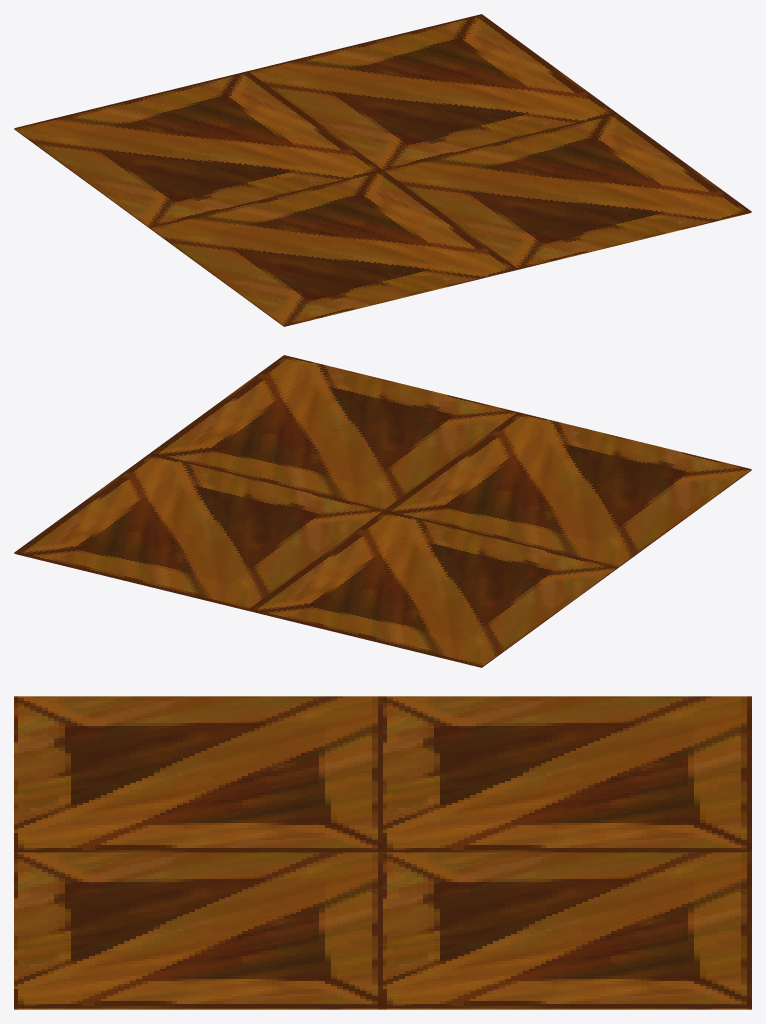
The model's file is especialBox_tampa.fbx.
The picture shows the model from 3 angles, top to bottom: view 1: azimuth 30°, elevation 25°; view 2: azimuth 150°, elevation 25°; view 3: azimuth 270°, elevation 25°; orthographic projection. The views are drawn at different scales.
Visible parts, largest first — view 1: especial box - tampa; view 2: especial box - tampa; view 3: especial box - tampa.
Part boxes in pixels (box(x1,y1,x2,y2)): especial box - tampa: box(14, 14, 751, 326); especial box - tampa: box(14, 355, 751, 667); especial box - tampa: box(14, 696, 751, 1009).
Bounding box in the file's own units: 3012 × 6.29 × 3012.
